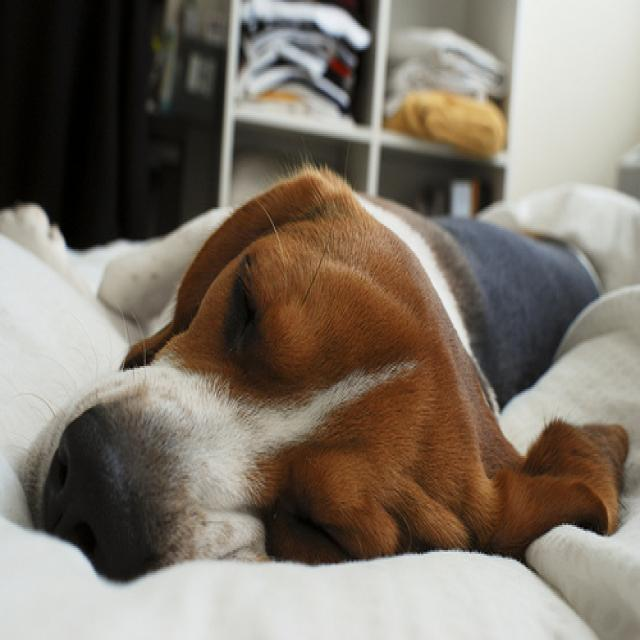dog: (15, 164, 628, 580)
